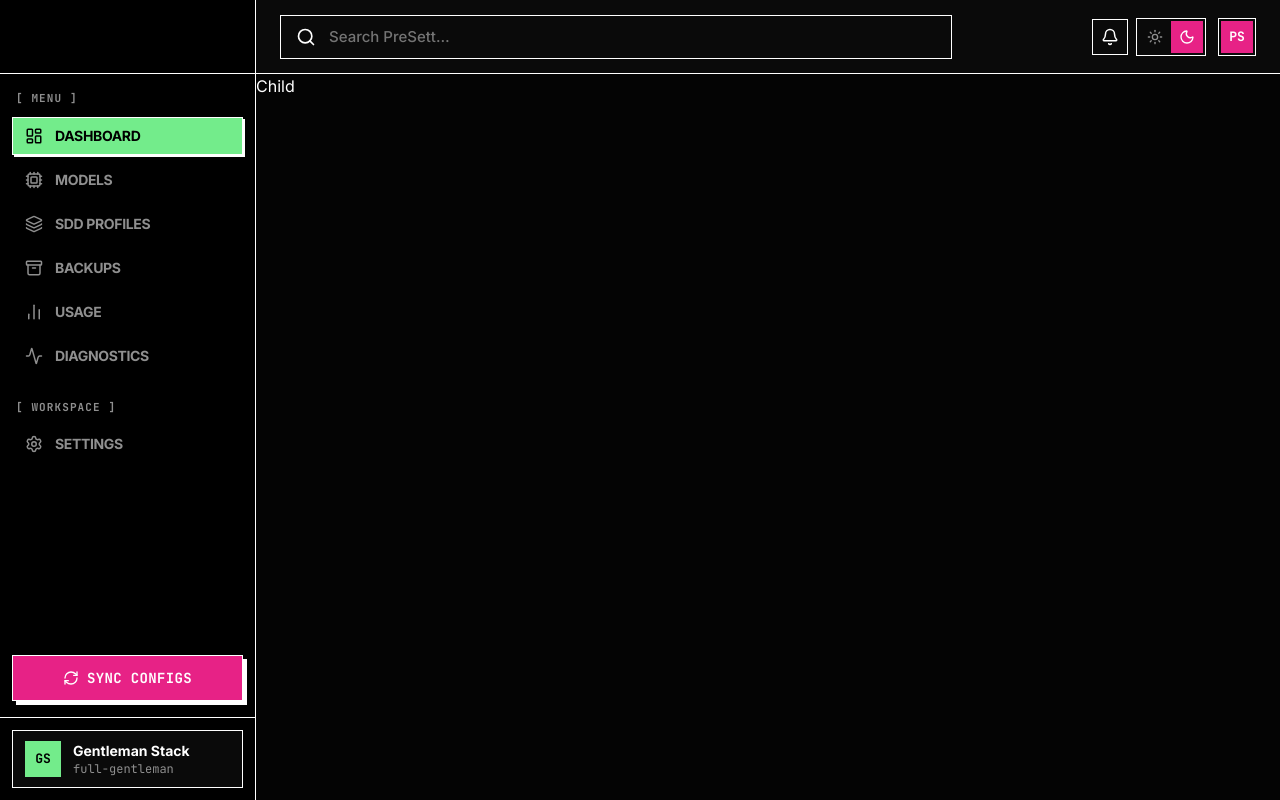
Test: DashboardLayout › bell click opens notification panel and outside click dismisses it
# Click bell → panel opens (Radix Popover)
Click the button named "notifications" at (1110, 36), box [1092,18,1128,54]
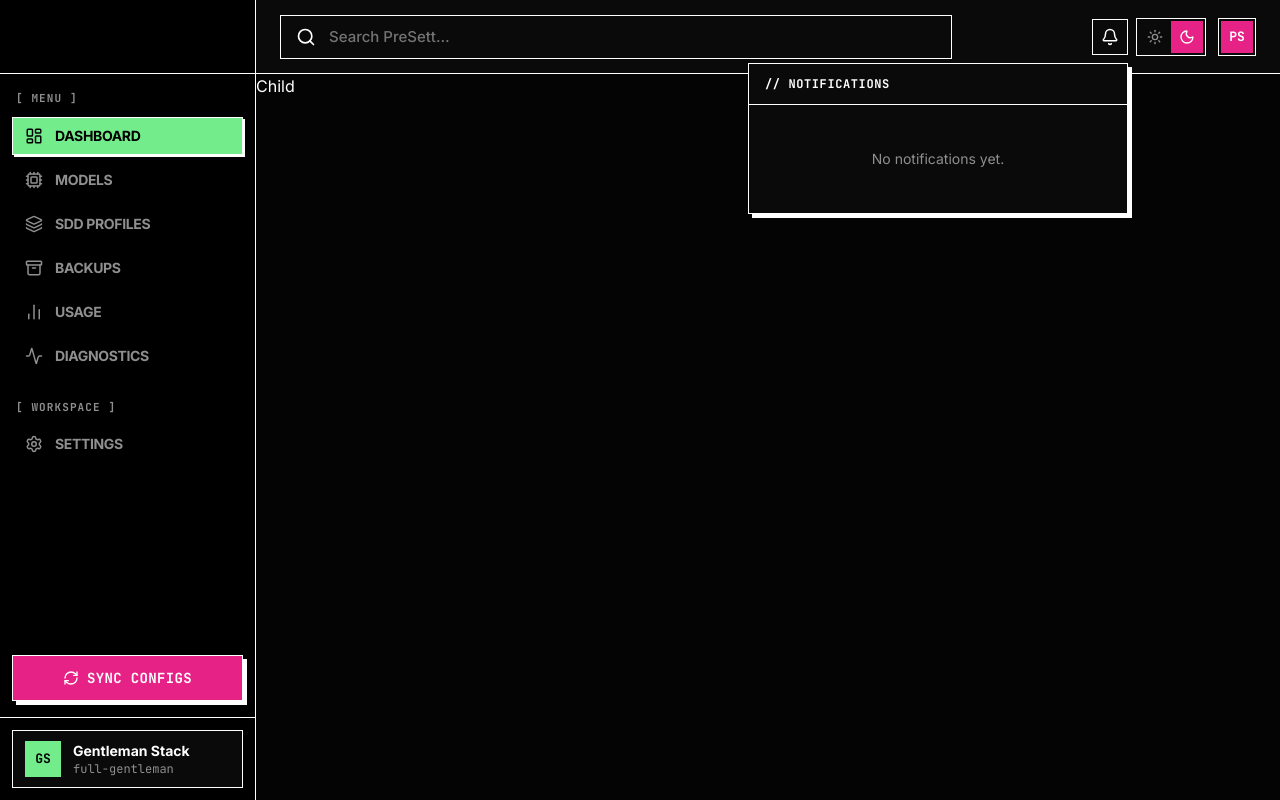
Expected: the text "No notifications yet." is shown, [872,150,1004,167]
# Click outside dismisses the panel (Radix handles this)
Click the element that starts with "Menu" at (640, 400), box [0,0,1279,799]
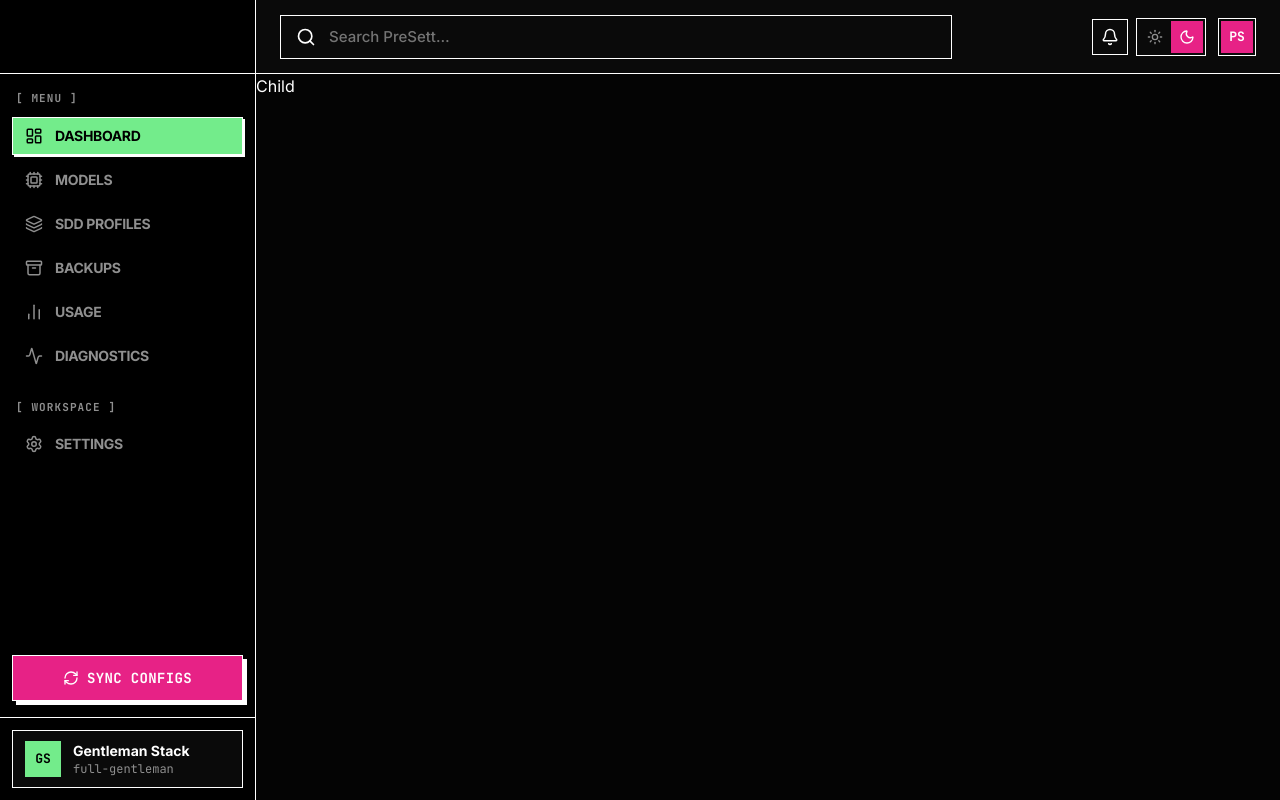
Expected: the text "No notifications yet." is gone
